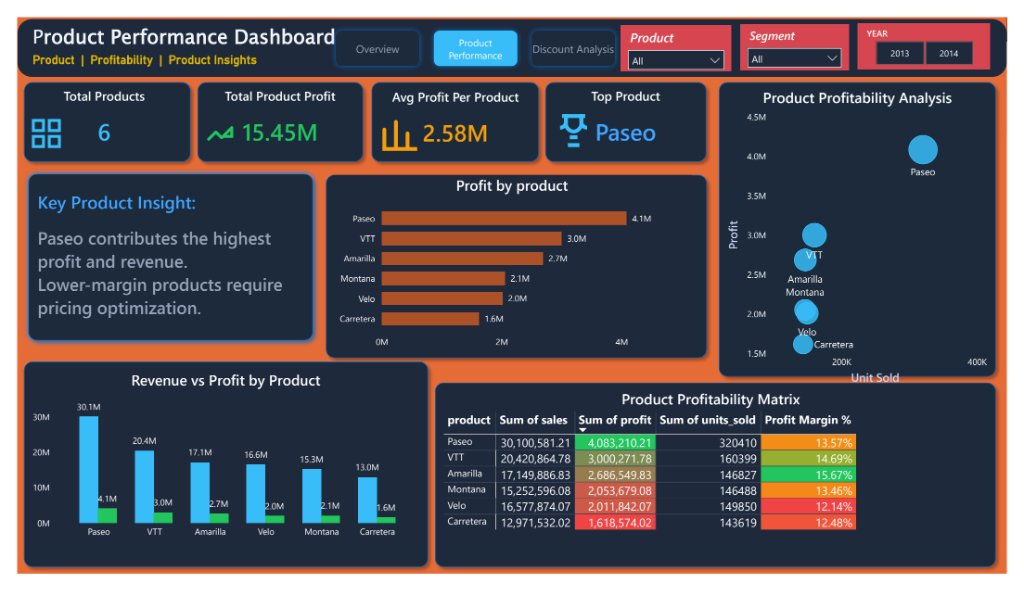

The page's visual inventory and layout, read from the dashboard file:
{"tool":"powerbi","page":{"name":"Product Performance","canvas":[1366,768],"ordinal":1},"visuals":[{"type":"shape","box":[959.9,80.1,399.8,425],"z":0},{"type":"shape","box":[568.2,495.3,791.5,272.8],"z":2000},{"type":"shape","box":[416.9,208,543.9,271],"z":3000},{"type":"shape","box":[0,466.4,576.3,301.7],"z":4000},{"type":"shape","box":[720,80,240,128],"z":5000},{"type":"shape","box":[479.9,80.1,249.4,127.9],"z":6000},{"type":"shape","box":[240.4,80.1,245.8,127.9],"z":7000},{"type":"shape","box":[0,80.1,247.6,127.9],"z":8000},{"type":"shape","box":[0,1.9,1365.5,80.4],"z":9000},{"type":"textbox","box":[16.2,1.8,432.2,76.5],"z":10000},{"type":"pageNavigator","box":[432.2,9.9,400.7,64.8],"z":11000},{"type":"cardVisual","title":"Total Products","fields":{"Data":["Count(financial_dashboard_view.product)"]},"box":[16,96,208,96],"z":12000},{"type":"cardVisual","title":"Total Product Profit","fields":{"Data":["Sum(financial_dashboard_view.profit)"]},"box":[259.3,96.3,208,96],"z":13000},{"type":"cardVisual","title":"Avg Profit Per Product","fields":{"Data":["financial_dashboard_view.Avg Profit Per Product"]},"box":[500.7,97.2,208,96],"z":14000},{"type":"clusteredBarChart","title":"Profit by product","fields":{"Category":["financial_dashboard_view.product"],"Y":["financial_dashboard_view.Total Profit"]},"box":[434.9,217,496.2,249.4],"z":15000},{"type":"clusteredColumnChart","title":"Revenue vs Profit by Product","fields":{"Category":["financial_dashboard_view.product"],"Y":["financial_dashboard_view.Total Revenue","financial_dashboard_view.Total Profit"]},"box":[16.2,486.2,543.9,241.3],"z":16000},{"type":"cardVisual","title":"Top Product","fields":{"Data":["financial_dashboard_view.Top Performing Product"]},"box":[736,96,208,96],"z":17000},{"type":"scatterChart","title":"Product Profitability Analysis","fields":{"Category":["financial_dashboard_view.product"],"Size":["financial_dashboard_view.Total Revenue"],"X":["Sum(financial_dashboard_view.units_sold)"],"Y":["financial_dashboard_view.Total Profit"]},"box":[976,96,368,416],"z":18000},{"type":"pivotTable","title":"Product Profitability Matrix","fields":{"Rows":["financial_dashboard_view.product"],"Values":["Sum(financial_dashboard_view.sales)","Sum(financial_dashboard_view.profit)","Sum(financial_dashboard_view.units_sold)","financial_dashboard_view.Profit Margin %"]},"box":[584.4,512.4,746.5,229.6],"z":19000},{"type":"slicer","fields":{"Values":["financial_dashboard_view.year"]},"box":[1159.8,8.1,183.7,63.9],"z":20000},{"type":"slicer","fields":{"Values":["financial_dashboard_view.segment"]},"box":[997.7,9,150.4,63.9],"z":21000},{"type":"slicer","fields":{"Values":["financial_dashboard_view.product"]},"box":[832.9,9.9,153.1,63.9],"z":22000},{"type":"shape","box":[6.3,207.1,410.6,247.6],"z":23000},{"type":"textbox","box":[23.4,233.2,393.5,191.8],"z":24000},{"type":"image","box":[256,128,48,64],"z":25000},{"type":"image","box":[16,128,48,64],"z":26000},{"type":"image","box":[496,128,64,64],"z":27000},{"type":"image","box":[736,128,64,64],"z":28000}]}

Visuals, with their boxes in screenshot pixels (x1, y1, x2, y2), scaled from the page's 1366x768 canvas onto the 1024x591 screenshot:
shape: 720:62:1019:389
shape: 426:381:1019:590
shape: 313:160:720:369
shape: 0:359:432:590
shape: 540:62:720:160
shape: 360:62:547:160
shape: 180:62:364:160
shape: 0:62:186:160
shape: 0:1:1023:63
textbox: 12:1:336:60
pageNavigator: 324:8:624:57
"Total Products" cardVisual: 12:74:168:148
"Total Product Profit" cardVisual: 194:74:350:148
"Avg Profit Per Product" cardVisual: 375:75:531:149
"Profit by product" clusteredBarChart: 326:167:698:359
"Revenue vs Profit by Product" clusteredColumnChart: 12:374:420:560
"Top Product" cardVisual: 552:74:708:148
"Product Profitability Analysis" scatterChart: 732:74:1008:394
"Product Profitability Matrix" pivotTable: 438:394:998:571
slicer - financial_dashboard_view.year: 869:6:1007:55
slicer - financial_dashboard_view.segment: 748:7:861:56
slicer - financial_dashboard_view.product: 624:8:739:57
shape: 5:159:313:350
textbox: 18:179:313:327
image: 192:98:228:148
image: 12:98:48:148
image: 372:98:420:148
image: 552:98:600:148
